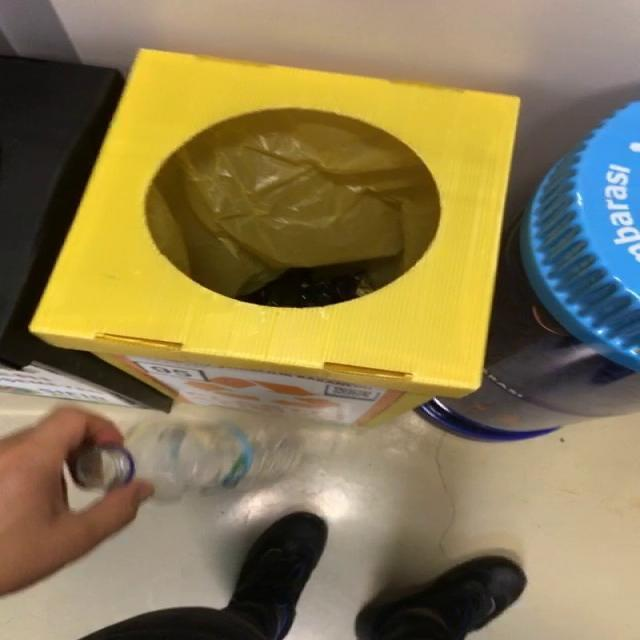Plastic: (67, 422, 300, 502)
